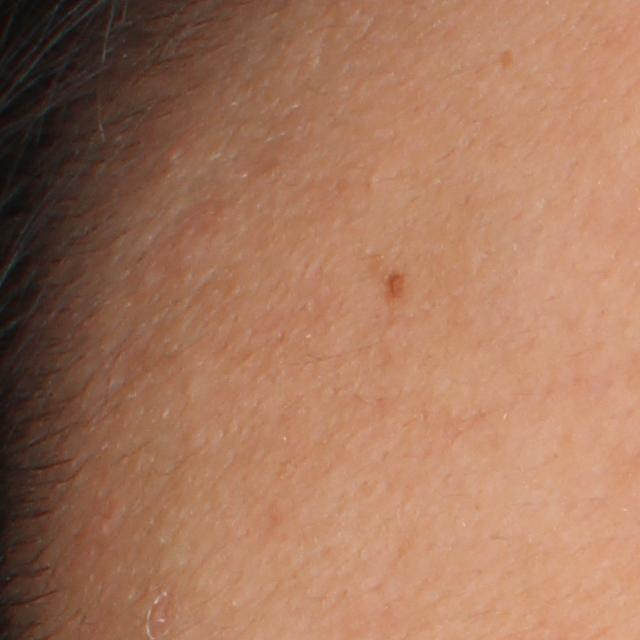nevus: (385, 271, 406, 302)
